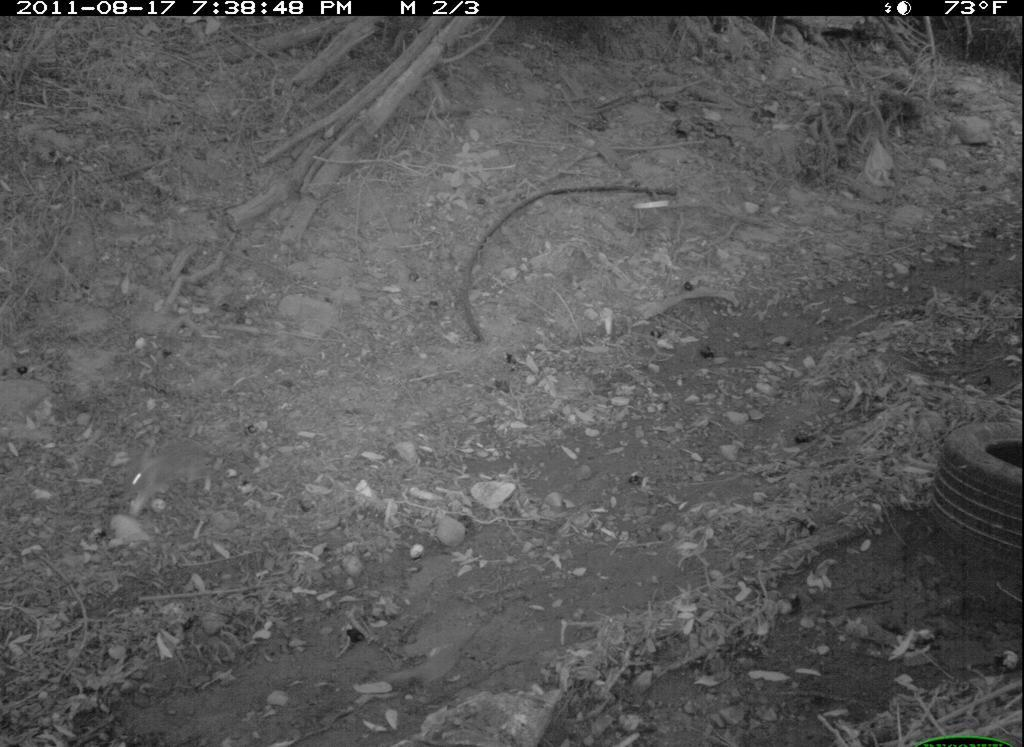rabbit: (104, 409, 258, 547)
